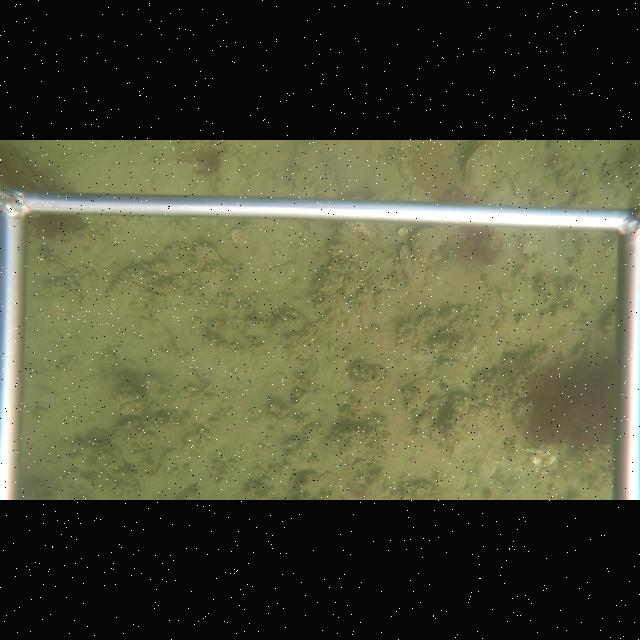Oyster-Closed: (433, 357, 471, 388), (397, 243, 427, 282), (191, 243, 225, 267)
Oyster-Open: (462, 140, 502, 187), (409, 225, 446, 264)
